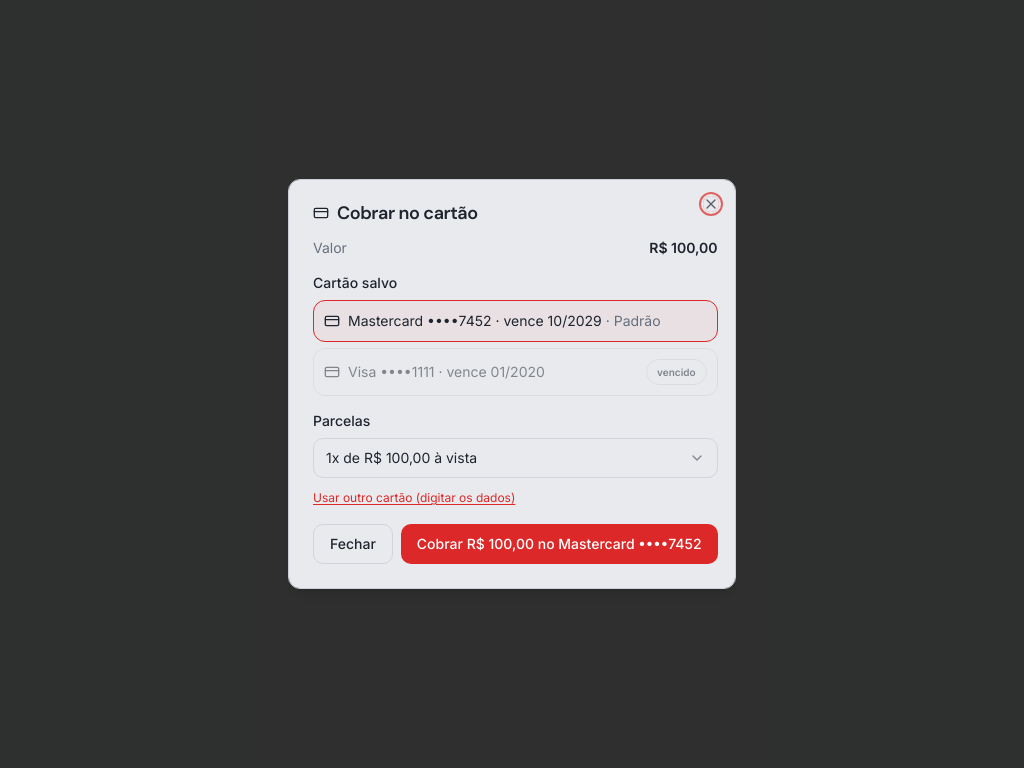
Scenario: PagarCartaoDialog — cobrança de um clique › recusa definitiva gera nova chave; resultado incerto trava o botão e mantém a chave
Click the button "Cobrar R$ 100,00 no Mastercard ••••7452".
click(559, 544)  # box [401, 524, 718, 564]
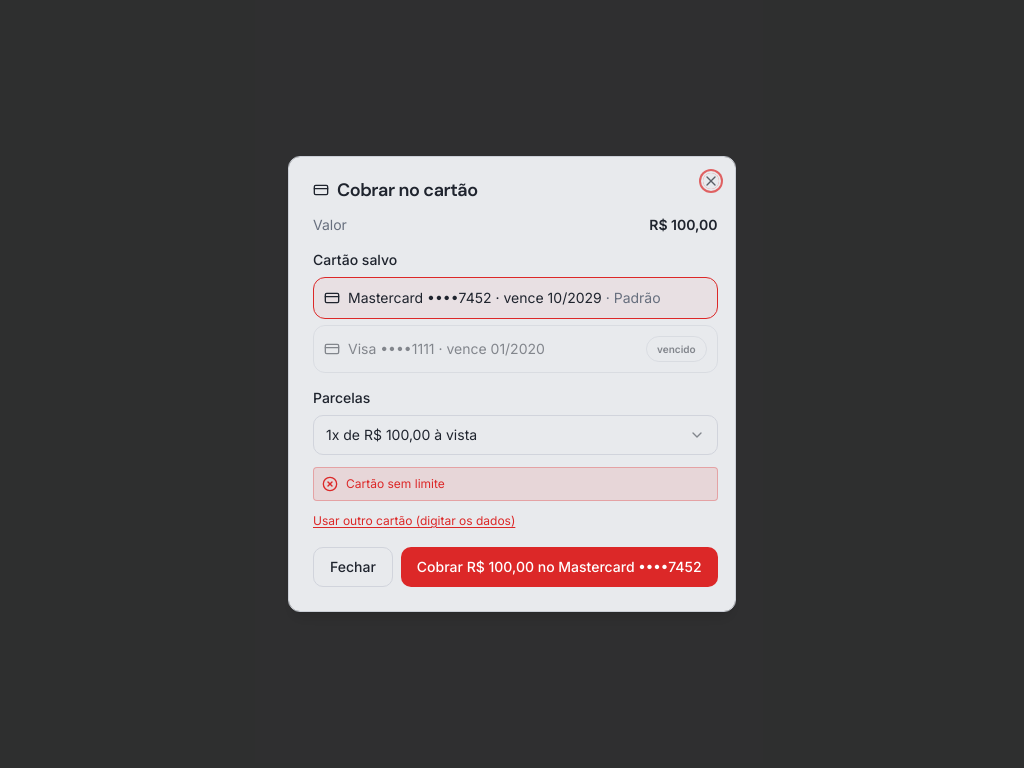
Expected: the text "Cartão sem limite" is shown, [346, 476, 445, 492]
Click the button "Cobrar R$ 100,00 no Mastercard ••••7452".
click(559, 567)  # box [401, 547, 718, 587]
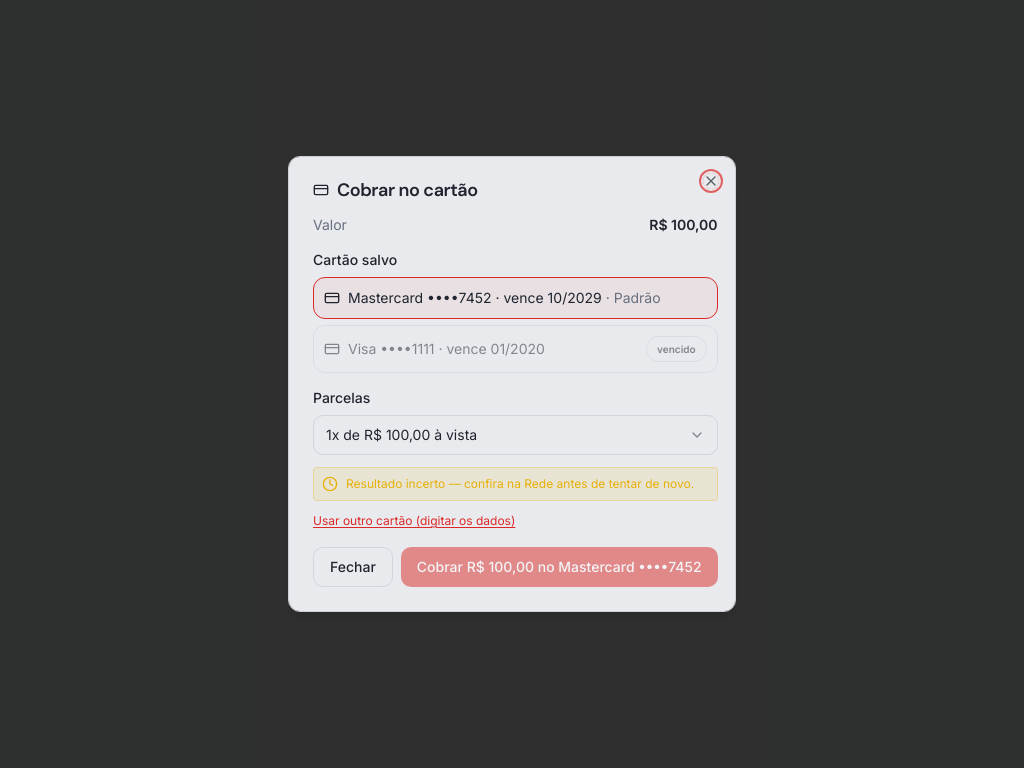
Expected: the text "Resultado incerto — confira na Rede antes de tentar de novo." is shown, [346, 476, 694, 492]
Expected: the button "Cobrar R$ 100,00 no Mastercard ••••7452" is disabled, [401, 547, 718, 587]
